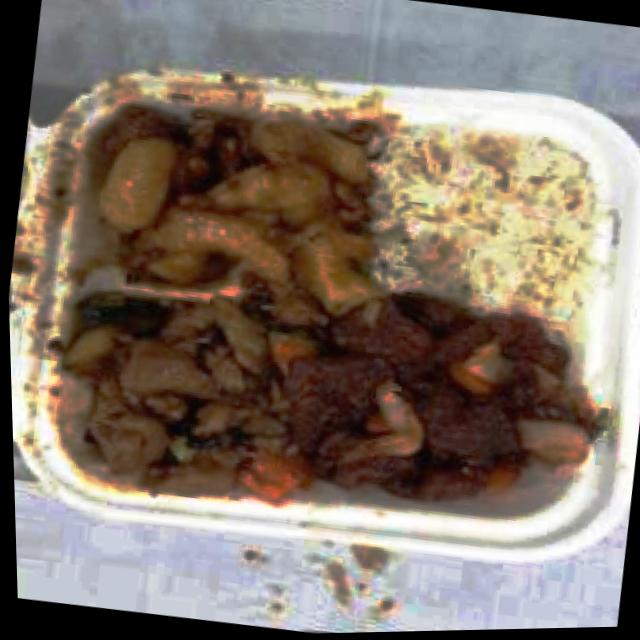Beijing Beef: (285, 297, 589, 520)
Kung Pao Chicken: (89, 93, 374, 311), (50, 271, 303, 502)
rice: (372, 126, 598, 318)
